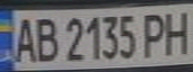1: (81, 12, 103, 61)
2: (60, 14, 84, 62)
3: (100, 11, 121, 61)
5: (118, 11, 142, 60)
A: (9, 13, 39, 64)
B: (30, 13, 60, 64)
H: (160, 7, 193, 56)
P: (139, 9, 172, 57)
